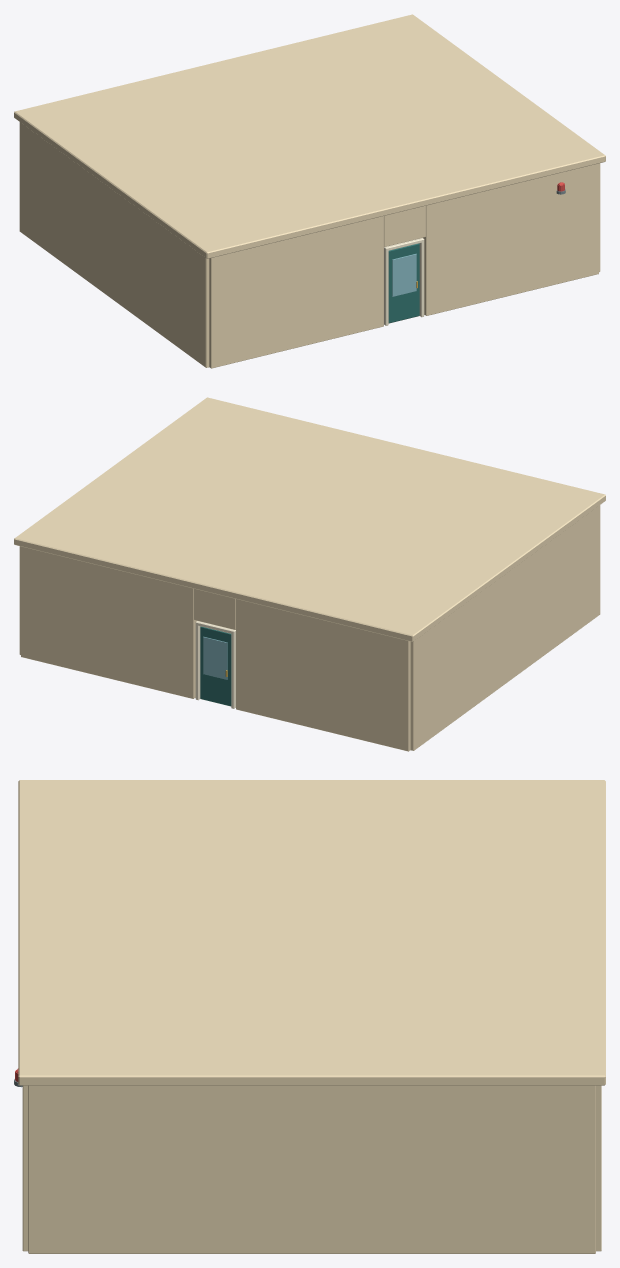
Rendered from Interior_Jewelry.fbx.
3 renders of one model, top to bottom at view 1: azimuth 30°, elevation 25°; view 2: azimuth 150°, elevation 25°; view 3: azimuth 270°, elevation 25°, orthographic. The views are drawn at different scales.
Parts seen in each view (by area): view 1: Roof_Removable.001, WallLeft.001, WallSegment.004, WallSegment.005, Entrance_Door.001, DoorHeader.002, Entrance_Glass.001; view 2: Roof_Removable.001, WallLeft.001, WallSegment.006, WallSegment.007, RearExit_Door.001, DoorHeader.003, RearExit_Glass.001; view 3: Roof_Removable.001, WallRight.001, WallSegment.005, WallSegment.007.
Part boxes in pixels (x1=…): Roof_Removable.001: x1=14, y1=14, x2=605, y2=258; WallLeft.001: x1=19, y1=122, x2=209, y2=367; WallSegment.004: x1=209, y1=216, x2=383, y2=368; WallSegment.005: x1=423, y1=163, x2=598, y2=315; Entrance_Door.001: x1=388, y1=243, x2=419, y2=323; DoorHeader.002: x1=384, y1=205, x2=425, y2=246; Entrance_Glass.001: x1=392, y1=253, x2=416, y2=296; Roof_Removable.001: x1=14, y1=397, x2=605, y2=641; WallLeft.001: x1=410, y1=505, x2=600, y2=750; WallSegment.006: x1=236, y1=599, x2=410, y2=751; WallSegment.007: x1=21, y1=546, x2=196, y2=698; RearExit_Door.001: x1=200, y1=626, x2=231, y2=706; DoorHeader.003: x1=194, y1=588, x2=235, y2=629; RearExit_Glass.001: x1=203, y1=636, x2=227, y2=679; Roof_Removable.001: x1=18, y1=780, x2=605, y2=1085; WallRight.001: x1=28, y1=1085, x2=595, y2=1253; WallSegment.005: x1=22, y1=1085, x2=28, y2=1251; WallSegment.007: x1=596, y1=1085, x2=601, y2=1251.
Size of the model in its own units: 12.35 by 3.5 by 10.43.
